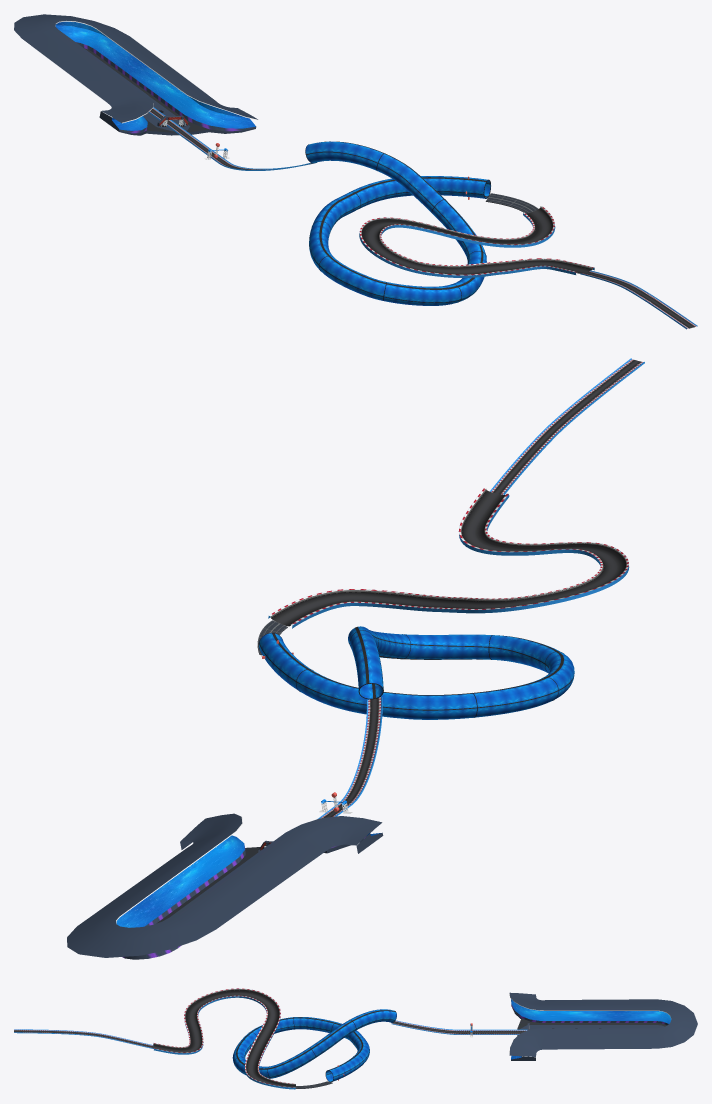
The model's file is Road_1_Model.FBX.
3 views of the same model, one above another, from view 1: azimuth 30°, elevation 25°; view 2: azimuth 150°, elevation 25°; view 3: azimuth 270°, elevation 25° (orthographic). The views are drawn at different scales.
Visible parts, largest first — view 1: Road_1, Finish_1; view 2: Road_1, Finish_1; view 3: Finish_1, Road_1.
Boxes of the visible parts, box(x1,y1,x2,y2) form: Road_1: box(166, 124, 697, 329); Finish_1: box(14, 14, 258, 135); Road_1: box(257, 358, 644, 818); Finish_1: box(67, 813, 383, 959); Finish_1: box(509, 992, 697, 1060); Road_1: box(14, 988, 527, 1089).
Size of the model in its own units: 405 by 134 by 1454.
